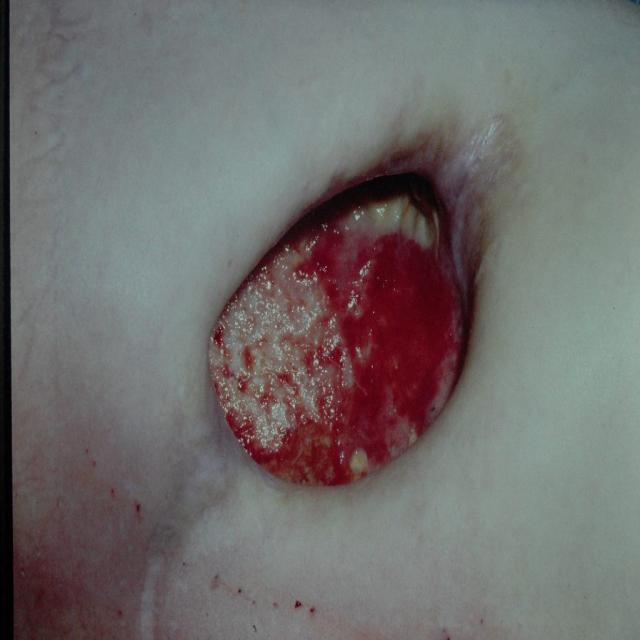stage-3: (210, 174, 465, 484)
